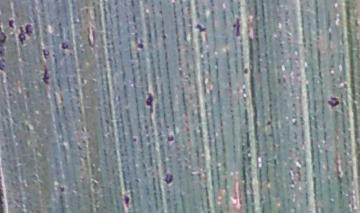tarspot: (229, 11, 244, 42), (143, 87, 156, 118), (39, 61, 52, 89), (159, 168, 176, 189), (325, 93, 342, 113), (1, 25, 8, 73), (120, 189, 133, 213), (16, 23, 27, 49), (56, 37, 73, 53), (164, 127, 177, 147), (192, 21, 209, 35), (24, 21, 36, 39), (38, 45, 52, 60), (135, 35, 146, 53), (7, 15, 18, 32), (241, 64, 251, 79), (57, 183, 68, 195), (264, 118, 274, 128), (130, 134, 138, 145)
